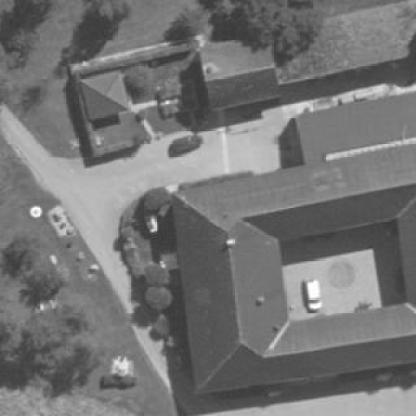solar-pv-panel: (222, 183, 308, 211)
